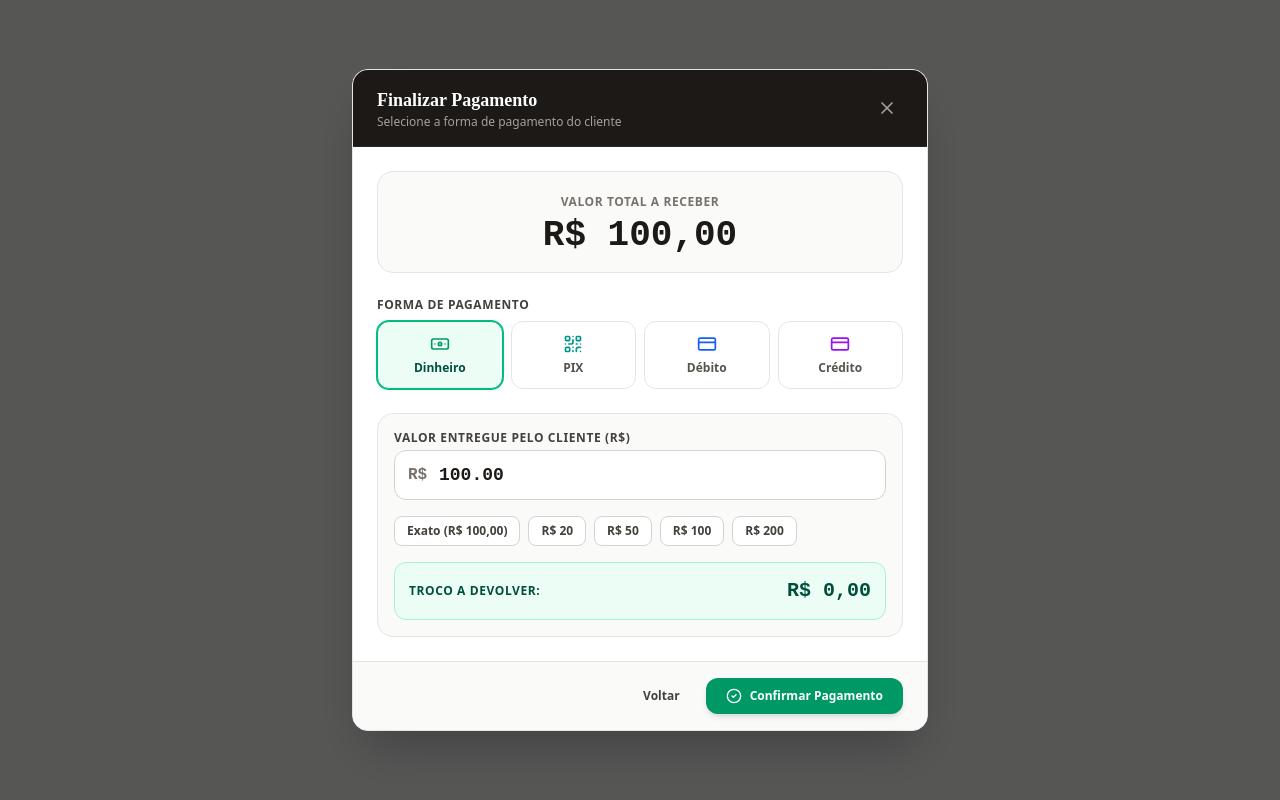
interface pagamento › UI dinheiro insuficiente desabilita confirmação
Replace the text in the number field with id "cash-amount-input" with "50" at [640, 475], box left=394, top=450, right=886, bottom=500
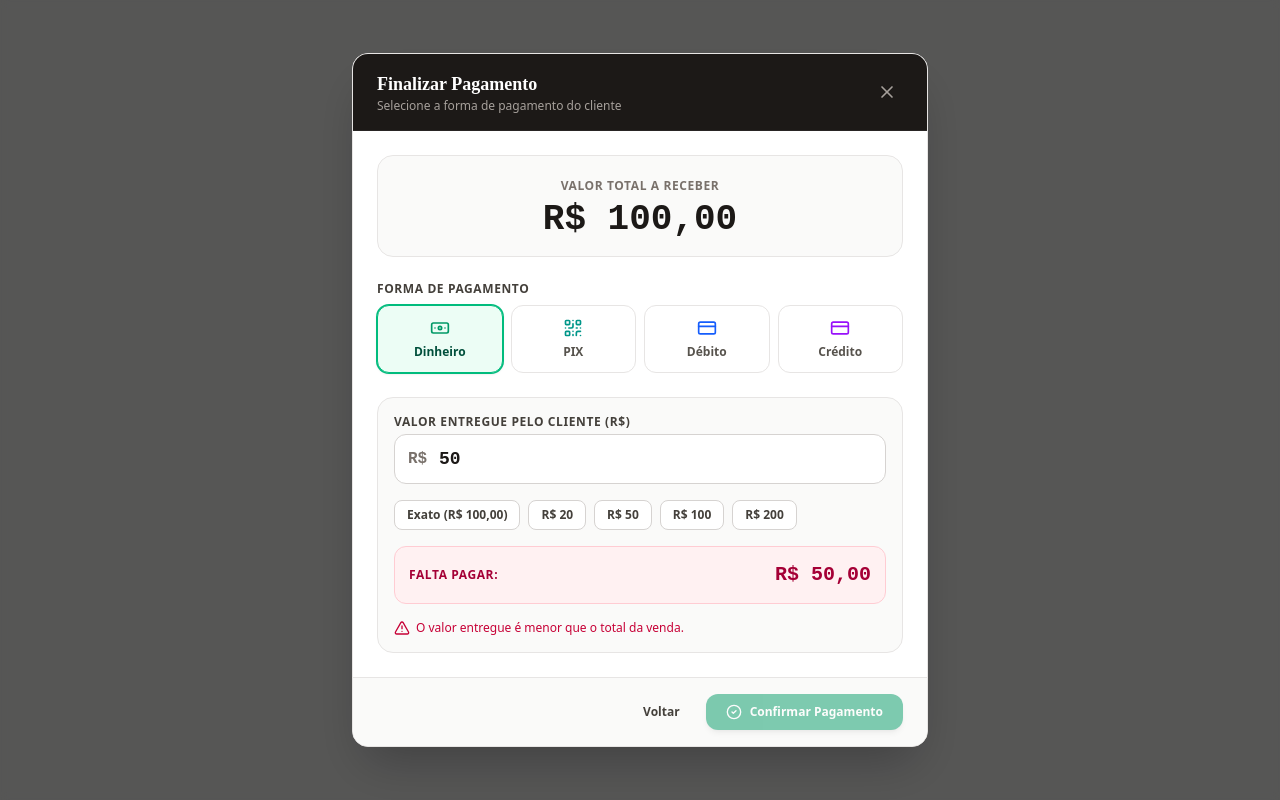
Expected: the button "Confirmar Pagamento" is disabled, left=706, top=694, right=903, bottom=730
